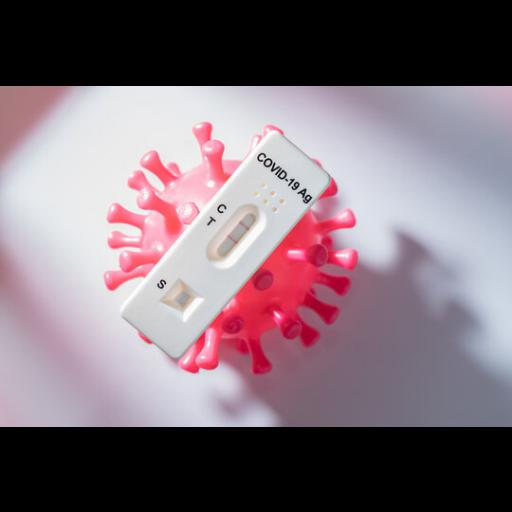Pos: (118, 129, 332, 361)
